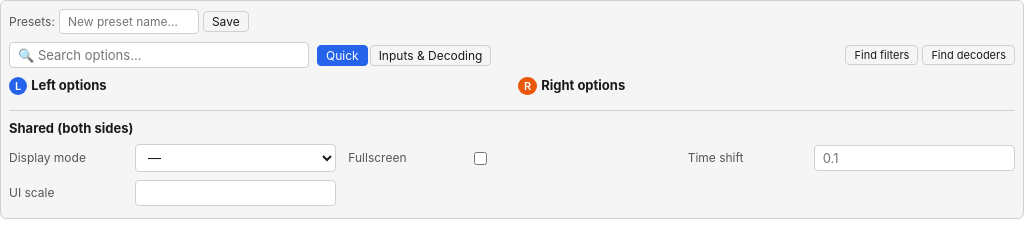
OptionsForm › clearing the search restores the group panel
In the field with placeholder "🔍 Search options…": (159, 55) [9,42,309,68], type "decoder"
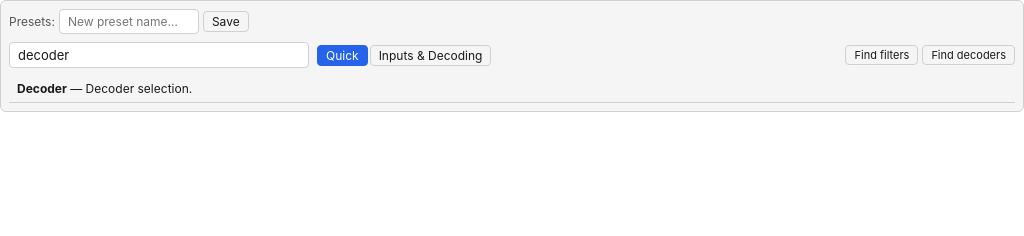
Now the element with class "search-results" is shown, box [9,76,1015,103]
Clear the field with placeholder "🔍 Search options…": (159, 55) [9,42,309,68]
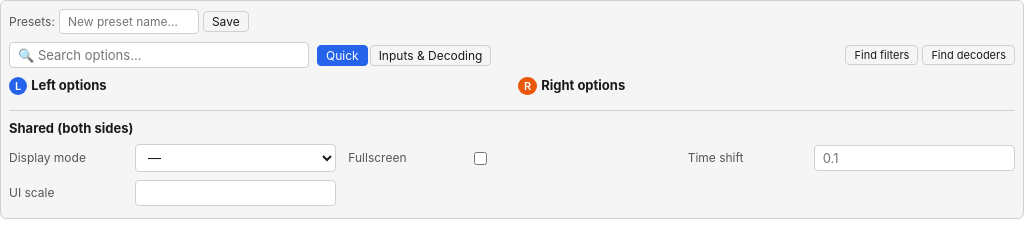
Now the element with class "columns" is shown, box [9,76,625,95]
Now the element with class "search-results" is gone
